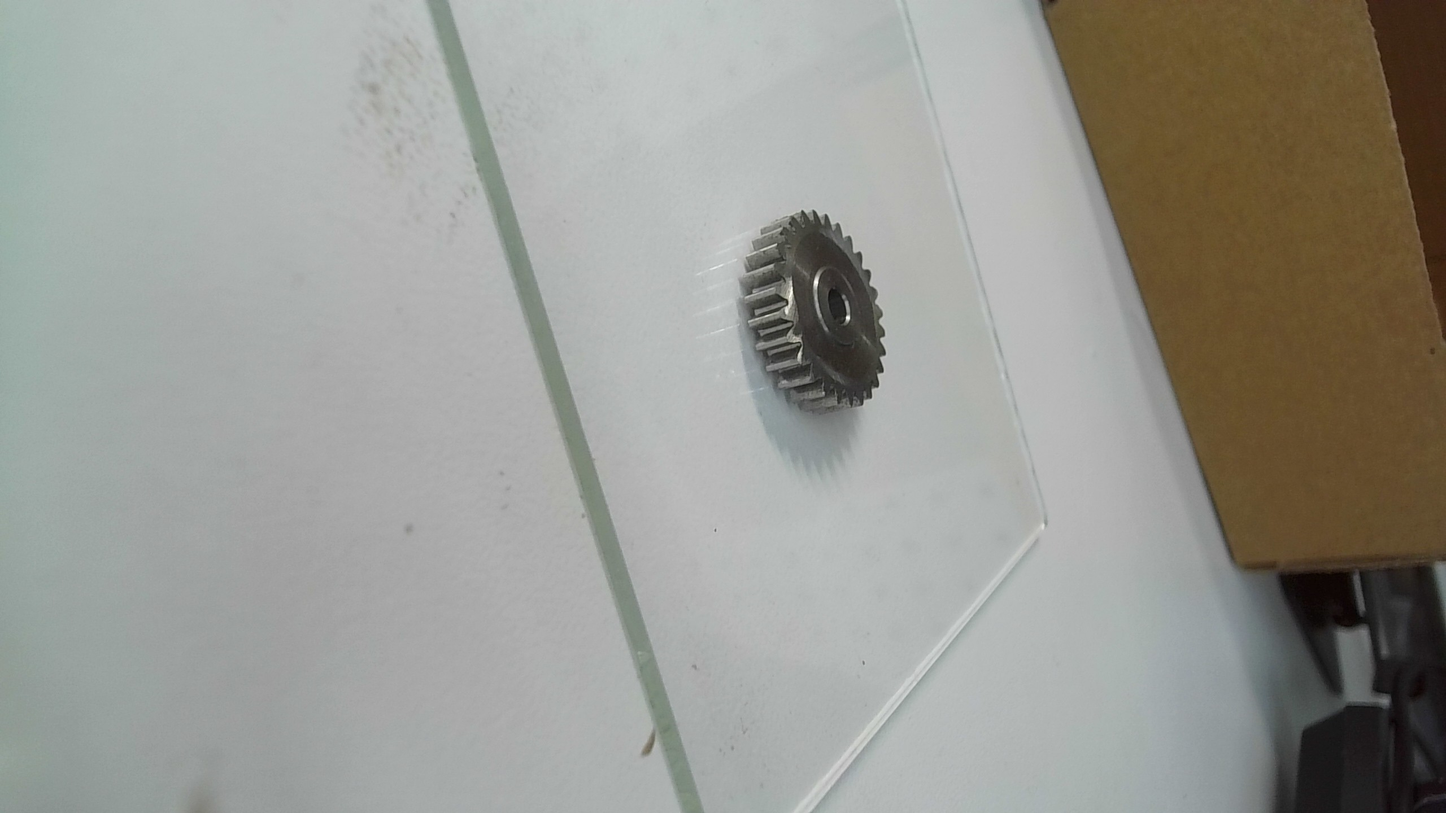gear: (741, 207, 889, 414)
